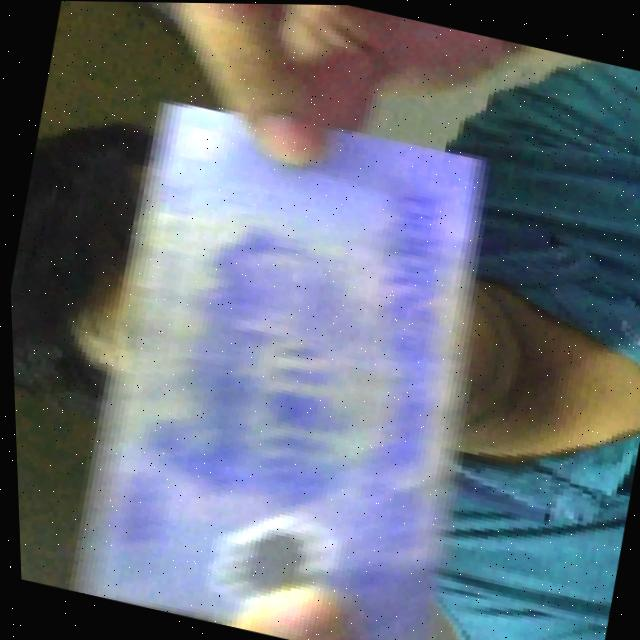20 000 VND: (38, 74, 528, 640)
